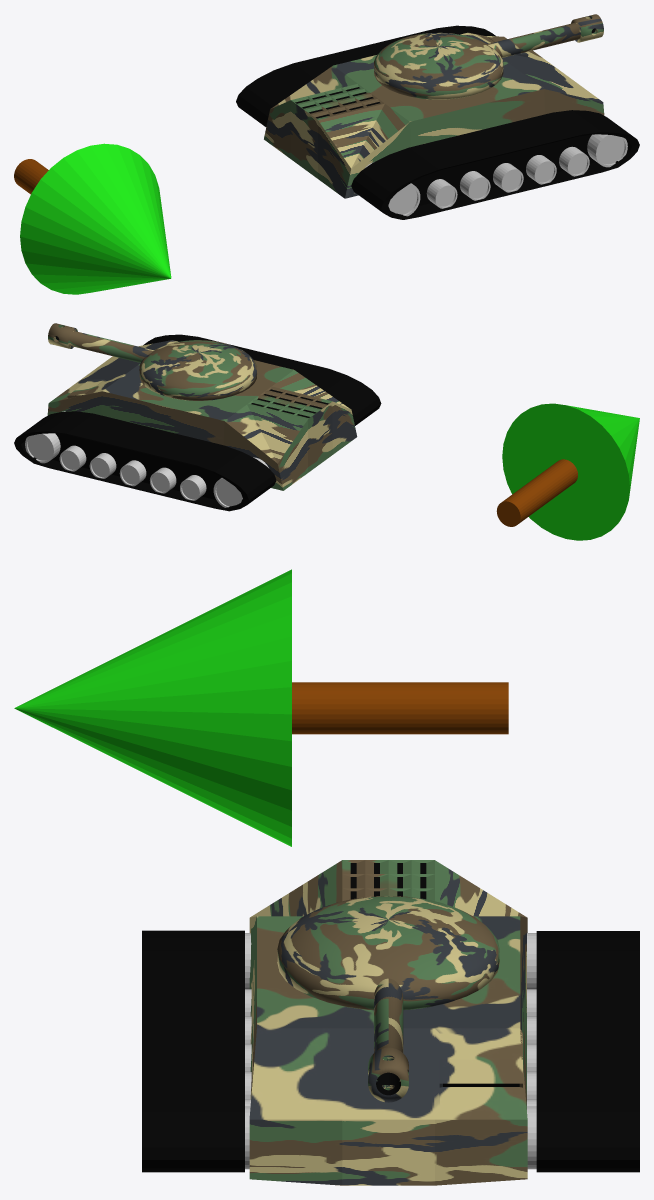
The model's file is KampVognVisma.fbx.
The picture shows the model from 3 angles, top to bottom: view 1: azimuth 30°, elevation 25°; view 2: azimuth 150°, elevation 25°; view 3: azimuth 270°, elevation 25°; orthographic projection. The views are drawn at different scales.
Visible parts, largest first — view 1: KampVogn, Træ, KanonTårn; view 2: KampVogn, Træ, KanonTårn; view 3: KampVogn, Træ, KanonTårn.
Boxes of the visible parts, x1,y1,x2,y2 form: KampVogn: (236,25,639,219); Træ: (14,143,171,294); KanonTårn: (374,14,603,99); KampVogn: (14,334,381,511); Træ: (496,403,639,540); KanonTårn: (48,323,257,400); KampVogn: (142,860,639,1185); Træ: (14,569,508,846); KanonTårn: (277,896,499,1102).
Bounding box in the file's own units: 862 × 200 × 450.
